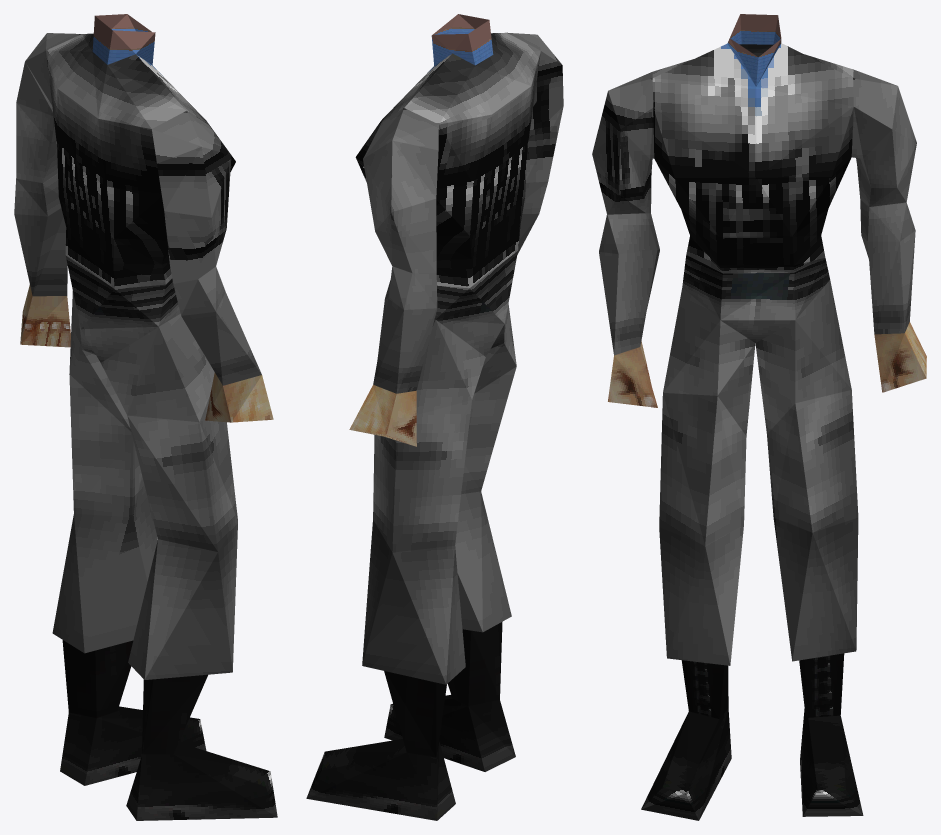
The model's file is primary_007.glb.
3 views of the same model, side by side, from view 1: azimuth 30°, elevation 25°; view 2: azimuth 150°, elevation 25°; view 3: azimuth 270°, elevation 25° (orthographic). The views are drawn at different scales.
Visible parts, largest first — view 1: Object; view 2: Object; view 3: Object.
Boxes of the visible parts, x1,y1,x2,y2 form: Object: (14,14,277,820); Object: (306,14,563,820); Object: (592,14,926,820).
Size of the model in its own units: 0.3875 by 1.83 by 0.7422.
Materials: 69 (69 with a texture image).
